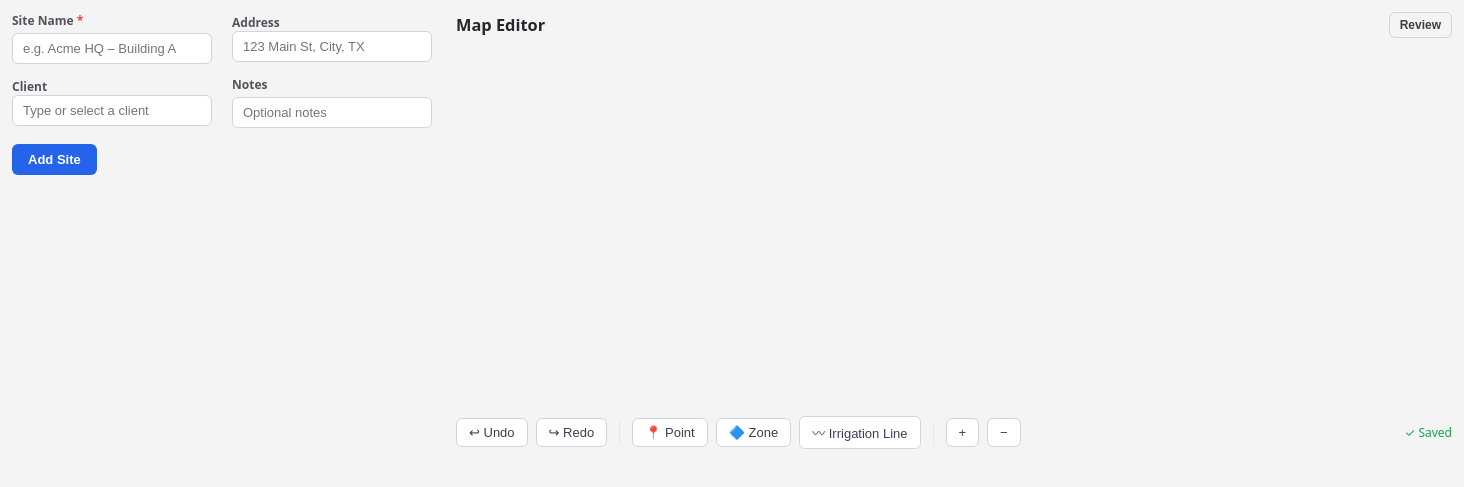
Test case: AddSiteForm › new client field inputs › renders phone, email, account type, and account number inputs when new client section is visible
Type "New Client" into the field with placeholder "Type or select a client" at coordinates (112, 110), box [12, 95, 212, 126]
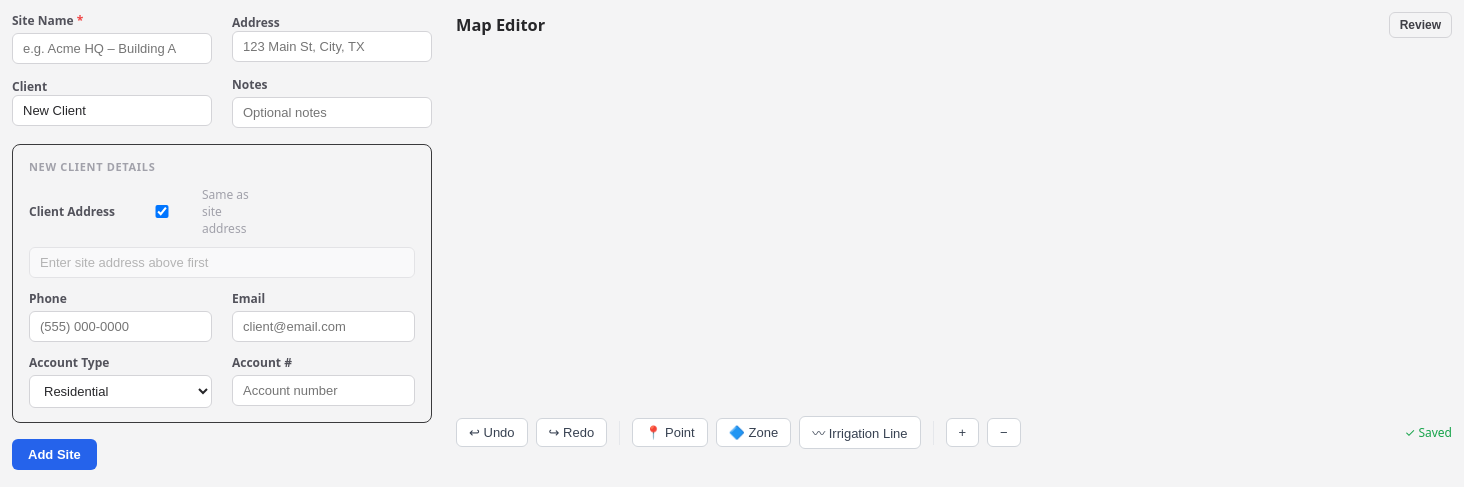
Expected: the field with test id "new-client-phone" is shown, [29, 311, 212, 342]
Expected: the field with test id "new-client-email" is shown, [232, 311, 415, 342]
Expected: the dropdown with test id "new-client-account-type" is shown, [29, 375, 212, 408]
